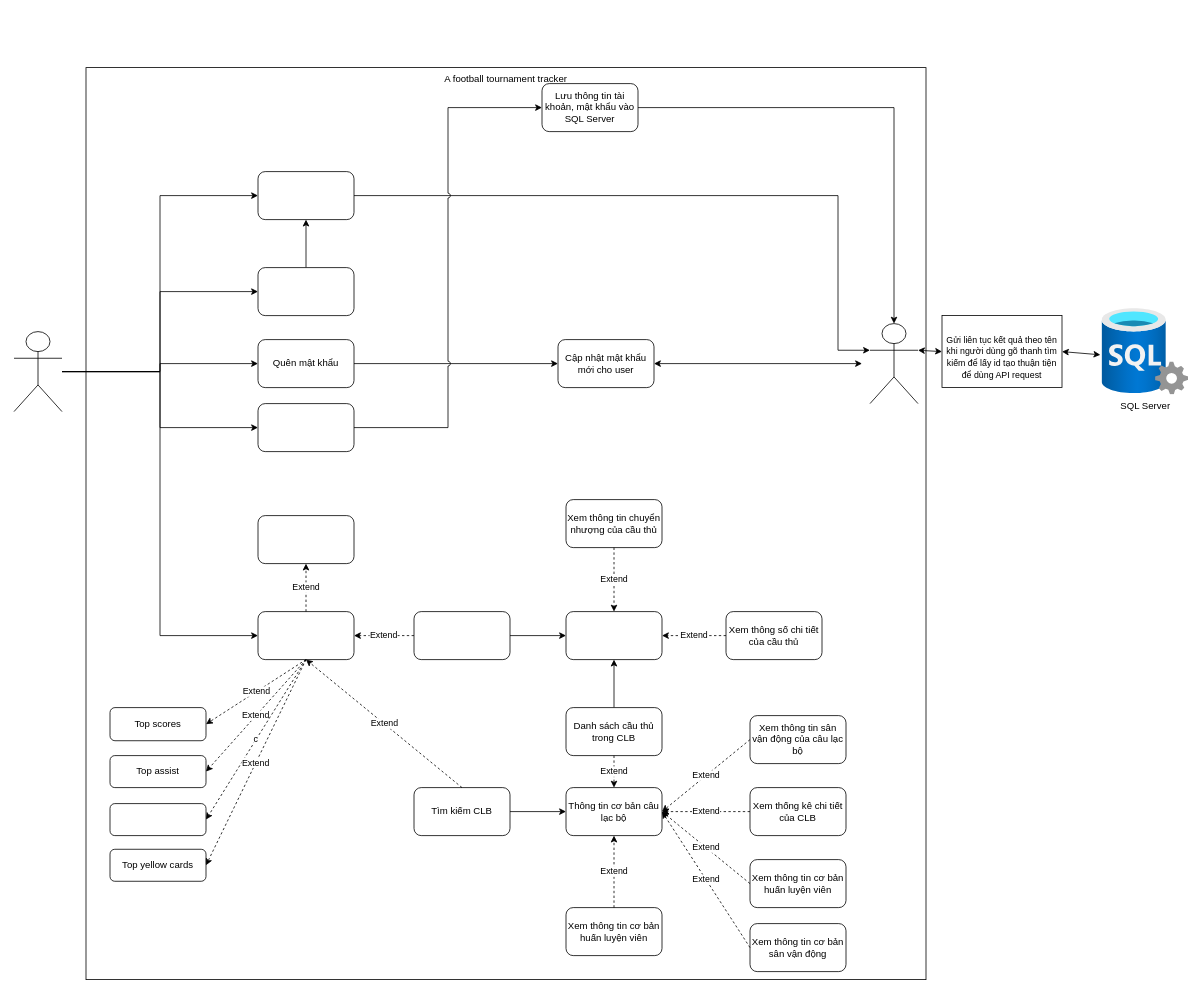
Image size: 1202x994. Some labels were removed from this diagram. The shapes that lost their labels are listed below. From the top down, each one's centre as x and y in pixels, then its label:
point 305,195: Tạo kết nối TCP/IP tới server
point 305,291: Đăng nhập
point 37,371: Client
point 893,363: Server
point 305,427: Tạo tài khoản
point 305,539: Xem bảng xếp hạng
point 305,635: Tìm kiếm thông tin giải đấu
point 461,635: Tìm kiếm thông tin cầu thủ
point 613,635: Thông tin cơ bản cầu thủ
point 157,819: Top red card
